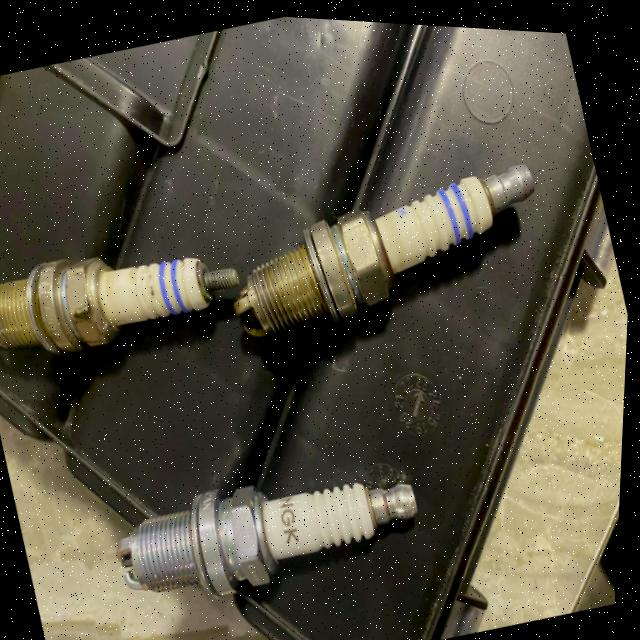spark-plug: (206, 116, 556, 369), (96, 428, 449, 628), (0, 192, 253, 406)
